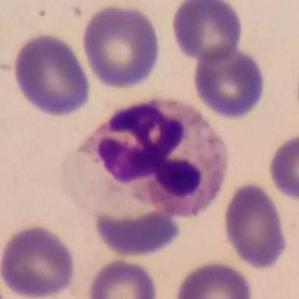Neutrophil: (65, 91, 237, 230)
RBC: (79, 1, 164, 91), (11, 30, 94, 119), (221, 180, 290, 271), (0, 222, 78, 299), (191, 45, 268, 121), (168, 1, 246, 63), (90, 207, 184, 258), (173, 258, 256, 299), (85, 256, 160, 299), (266, 130, 299, 203)
